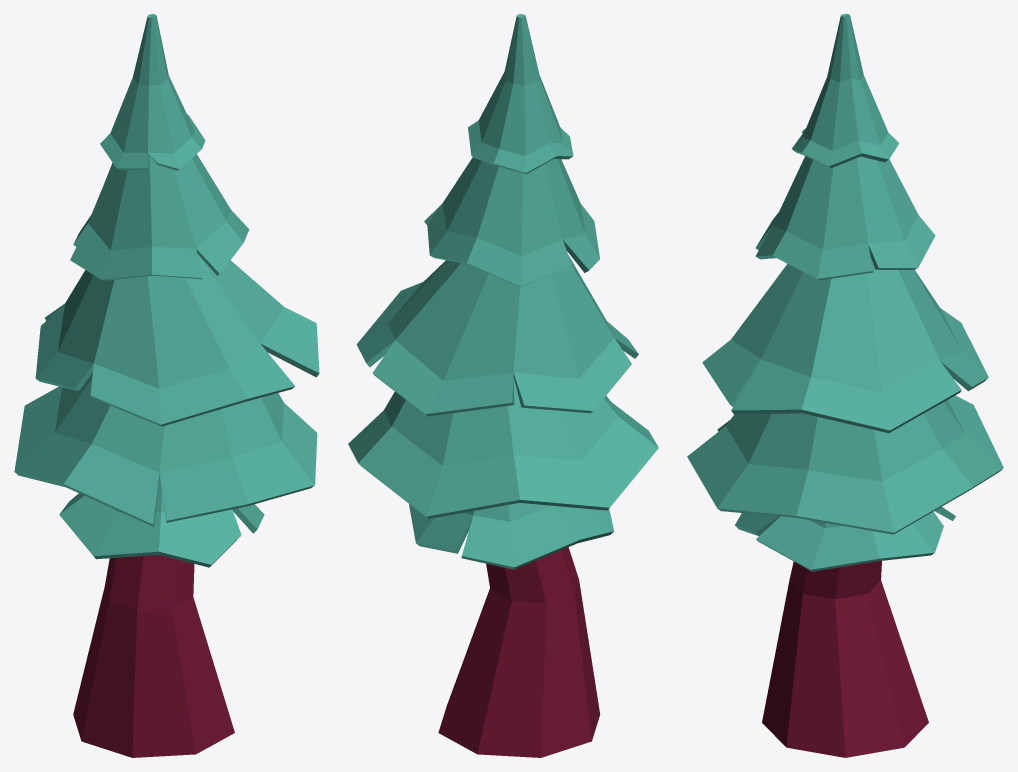
The model's file is Tree1.fbx.
3 renders of one model, left to right at view 1: azimuth 30°, elevation 25°; view 2: azimuth 150°, elevation 25°; view 3: azimuth 270°, elevation 25°, orthographic.
Visible parts, largest first — view 1: pino, arbol; view 2: pino, arbol; view 3: pino, arbol.
Boxes of the visible parts, x1,y1,x2,y2 form: pino: (14, 14, 319, 567); arbol: (73, 555, 234, 757); pino: (348, 14, 658, 569); arbol: (438, 547, 600, 757); pino: (687, 14, 1003, 571); arbol: (762, 561, 928, 757).
Size of the model in its own units: 753 by 1947 by 792.
